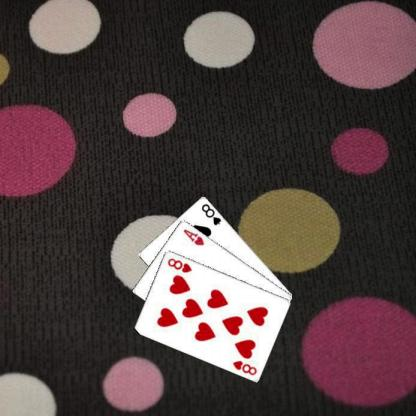8H: (166, 255, 194, 274), (232, 358, 260, 376)
8S: (201, 201, 224, 226)
AH: (182, 226, 208, 246)
